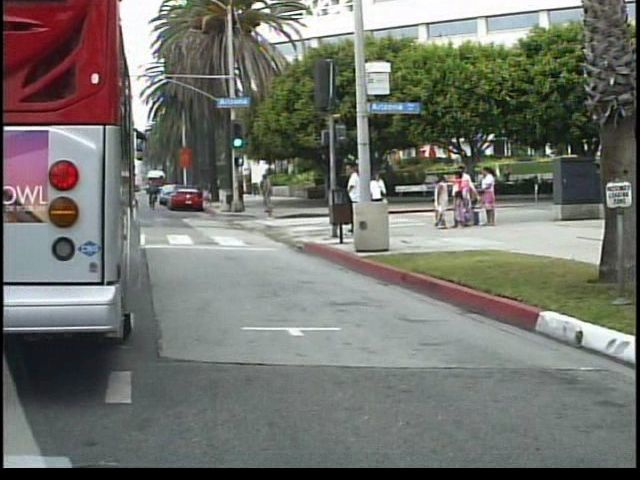person: (345, 160, 369, 239), (370, 168, 394, 230), (261, 169, 280, 211)
